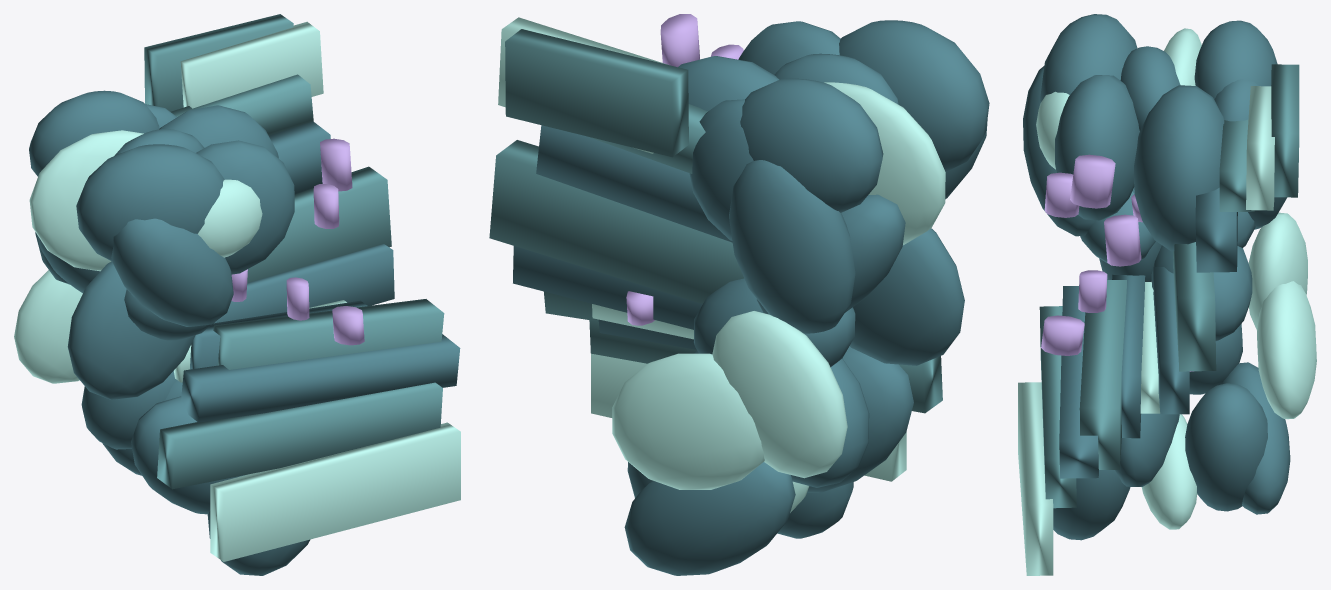
The model's file is reef-shelf-left-01.glb.
3 views of the same model, side by side, from view 1: azimuth 30°, elevation 25°; view 2: azimuth 150°, elevation 25°; view 3: azimuth 270°, elevation 25° (orthographic). The views are drawn at different scales.
Parts seen in each view (by area): view 1: reef_shelf_left_01_stratified_shelf_00, reef_shelf_left_01_stratified_shelf_01, reef_shelf_left_01_stratified_shelf_02, reef_shelf_left_01_faceted_boulder_03, reef_shelf_left_01_faceted_boulder_19, reef_shelf_left_01_faceted_boulder_17, reef_shelf_left_01_stratified_shelf_03, reef_shelf_left_01_stratified_shelf_07, reef_shelf_left_01_stratified_shelf_10, reef_shelf_left_01_faceted_boulder_04, reef_shelf_left_01_stratified_shelf_06, reef_shelf_left_01_faceted_boulder_22 (+18 smaller); view 2: reef_shelf_left_01_stratified_shelf_07, reef_shelf_left_01_stratified_shelf_11, reef_shelf_left_01_faceted_boulder_05, reef_shelf_left_01_faceted_boulder_08, reef_shelf_left_01_faceted_boulder_16, reef_shelf_left_01_faceted_boulder_02, reef_shelf_left_01_faceted_boulder_13, reef_shelf_left_01_faceted_boulder_03, reef_shelf_left_01_faceted_boulder_17, reef_shelf_left_01_stratified_shelf_08, reef_shelf_left_01_faceted_boulder_04, reef_shelf_left_01_stratified_shelf_06 (+19 smaller); view 3: reef_shelf_left_01_faceted_boulder_23, reef_shelf_left_01_faceted_boulder_10, reef_shelf_left_01_faceted_boulder_22, reef_shelf_left_01_faceted_boulder_08, reef_shelf_left_01_stratified_shelf_03, reef_shelf_left_01_stratified_shelf_00, reef_shelf_left_01_faceted_boulder_03, reef_shelf_left_01_stratified_shelf_07, reef_shelf_left_01_faceted_boulder_02, reef_shelf_left_01_stratified_shelf_02, reef_shelf_left_01_faceted_boulder_16, reef_shelf_left_01_faceted_boulder_13 (+27 smaller).
Boxes of the visible parts, box(x1,y1,x2,y2) form: reef_shelf_left_01_stratified_shelf_00: box(210, 422, 460, 561); reef_shelf_left_01_stratified_shelf_01: box(157, 382, 442, 489); reef_shelf_left_01_stratified_shelf_02: box(181, 334, 460, 422); reef_shelf_left_01_faceted_boulder_03: box(76, 144, 224, 261); reef_shelf_left_01_faceted_boulder_19: box(111, 218, 233, 326); reef_shelf_left_01_faceted_boulder_17: box(67, 261, 195, 399); reef_shelf_left_01_stratified_shelf_03: box(213, 299, 444, 369); reef_shelf_left_01_stratified_shelf_07: box(247, 166, 391, 282); reef_shelf_left_01_stratified_shelf_10: box(180, 21, 323, 108); reef_shelf_left_01_faceted_boulder_04: box(29, 130, 143, 271); reef_shelf_left_01_stratified_shelf_06: box(214, 244, 394, 323); reef_shelf_left_01_faceted_boulder_22: box(196, 140, 294, 274); reef_shelf_left_01_stratified_shelf_07: box(489, 140, 743, 303); reef_shelf_left_01_stratified_shelf_11: box(505, 29, 688, 157); reef_shelf_left_01_faceted_boulder_05: box(729, 160, 855, 333); reef_shelf_left_01_faceted_boulder_08: box(612, 353, 764, 489); reef_shelf_left_01_faceted_boulder_16: box(712, 311, 847, 478); reef_shelf_left_01_faceted_boulder_02: box(740, 78, 883, 212); reef_shelf_left_01_faceted_boulder_13: box(624, 462, 795, 575); reef_shelf_left_01_faceted_boulder_03: box(839, 20, 989, 171); reef_shelf_left_01_faceted_boulder_17: box(850, 228, 964, 365); reef_shelf_left_01_stratified_shelf_08: box(536, 125, 732, 242); reef_shelf_left_01_faceted_boulder_04: box(824, 82, 945, 245); reef_shelf_left_01_stratified_shelf_06: box(513, 246, 702, 329); reef_shelf_left_01_faceted_boulder_23: box(1133, 85, 1224, 251); reef_shelf_left_01_faceted_boulder_10: box(1185, 383, 1267, 511); reef_shelf_left_01_faceted_boulder_22: box(1055, 75, 1139, 220); reef_shelf_left_01_faceted_boulder_08: box(1257, 281, 1316, 419); reef_shelf_left_01_stratified_shelf_03: box(1079, 280, 1126, 469); reef_shelf_left_01_stratified_shelf_00: box(1018, 382, 1053, 575); reef_shelf_left_01_faceted_boulder_03: box(1040, 14, 1137, 102); reef_shelf_left_01_stratified_shelf_07: box(1173, 242, 1216, 371); reef_shelf_left_01_faceted_boulder_02: box(1194, 20, 1277, 99); reef_shelf_left_01_stratified_shelf_02: box(1059, 286, 1098, 478); reef_shelf_left_01_faceted_boulder_16: box(1248, 212, 1307, 330); reef_shelf_left_01_faceted_boulder_13: box(1222, 362, 1290, 514).
Bounding box in the file's own units: 5.66 × 6.62 × 3.84.
